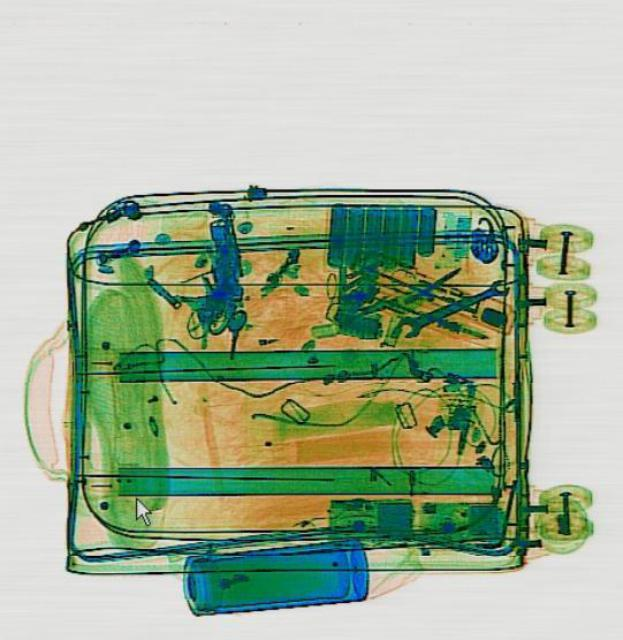Wrench: (390, 272, 513, 341)
